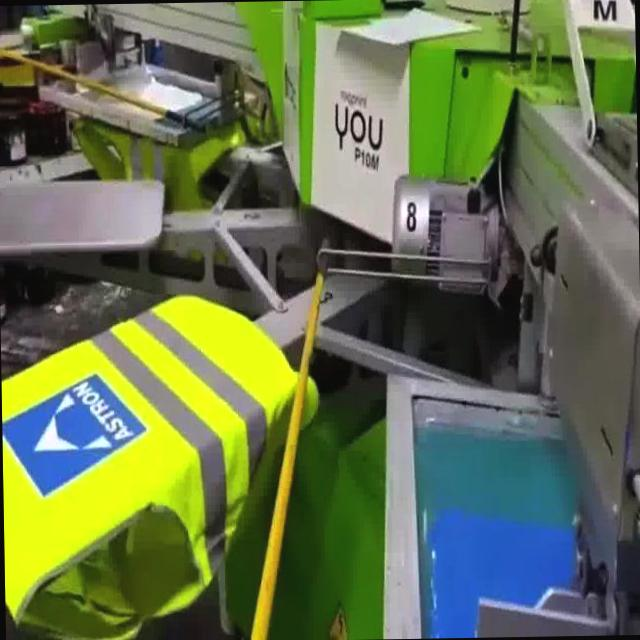vest: (0, 289, 325, 640)
